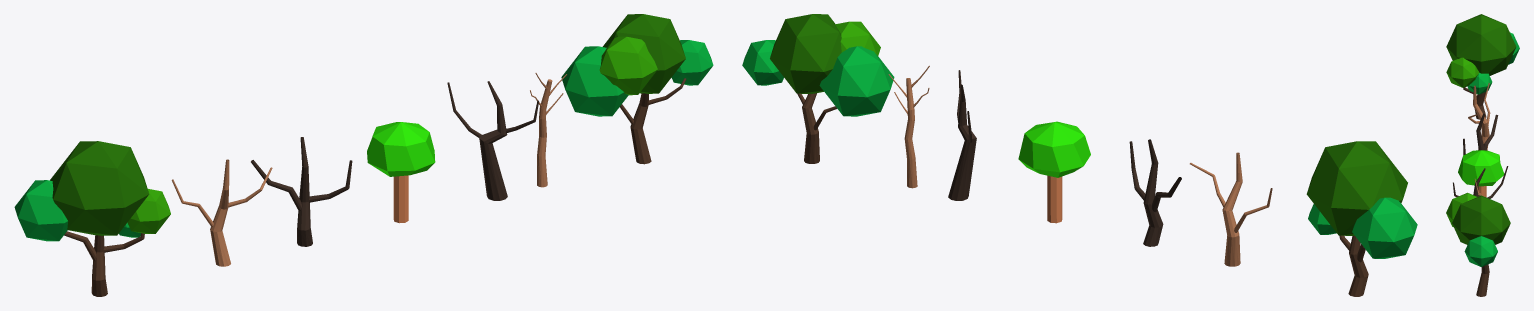
File: Tree_x6.fbx
3 renders of one model, left to right at view 1: azimuth 30°, elevation 25°; view 2: azimuth 150°, elevation 25°; view 3: azimuth 270°, elevation 25°, orthographic. The views are drawn at different scales.
Visible parts, largest first — view 1: leaf_4.002, Cube.001, leaf.001, leaf_4.001, leaf_2.001, leaf.002, bark.003, bark.002, bark.001, bark.007, leaf_3.001, leaf_3.002 (+2 smaller); view 2: leaf_4.002, leaf_4.001, Cube.001, leaf.001, leaf.002, bark.002, bark.003, bark.001, leaf_3.001, bark.005, bark.006, leaf_2.001 (+2 smaller); view 3: leaf_4.002, leaf_4.001, Cube.001, leaf_3.001, leaf_3.002, bark.001, bark.002, leaf_2.001, leaf_2.002, bark.006, bark.003, bark.007 (+1 smaller).
Boxes of the visible parts, <box> form: leaf_4.002: <box>50,141,149,235</box>; Cube.001: <box>367,122,435,223</box>; leaf.001: <box>561,46,628,116</box>; leaf_4.001: <box>602,14,685,93</box>; leaf_2.001: <box>599,36,657,95</box>; leaf.002: <box>14,180,68,241</box>; bark.003: <box>447,81,538,200</box>; bark.002: <box>251,137,352,246</box>; bark.001: <box>171,159,272,266</box>; bark.007: <box>64,231,144,296</box>; leaf_3.001: <box>671,40,713,85</box>; leaf_3.002: <box>127,189,170,233</box>; leaf_4.002: <box>1306,141,1407,235</box>; leaf_4.001: <box>770,14,841,93</box>; Cube.001: <box>1018,121,1090,223</box>; leaf.001: <box>819,46,894,116</box>; leaf.002: <box>1352,197,1417,258</box>; bark.002: <box>1129,139,1181,246</box>; bark.003: <box>948,70,976,200</box>; bark.001: <box>1189,152,1272,266</box>; leaf_3.001: <box>742,40,783,85</box>; bark.005: <box>888,65,929,188</box>; bark.006: <box>797,93,837,163</box>; leaf_2.001: <box>835,21,880,56</box>; leaf_4.002: <box>1446,14,1516,75</box>; leaf_4.001: <box>1452,195,1510,244</box>; Cube.001: <box>1458,150,1504,197</box>; leaf_3.001: <box>1464,236,1497,266</box>; leaf_3.002: <box>1446,57,1479,87</box>; bark.001: <box>1468,83,1490,150</box>; bark.002: <box>1463,113,1498,155</box>; leaf_2.001: <box>1446,192,1477,226</box>; leaf_2.002: <box>1467,73,1492,94</box>; bark.006: <box>1476,264,1489,296</box>; bark.003: <box>1453,166,1508,198</box>; bark.007: <box>1463,87,1486,119</box>.
Bounding box in the file's own units: 3582 × 769 × 505.
